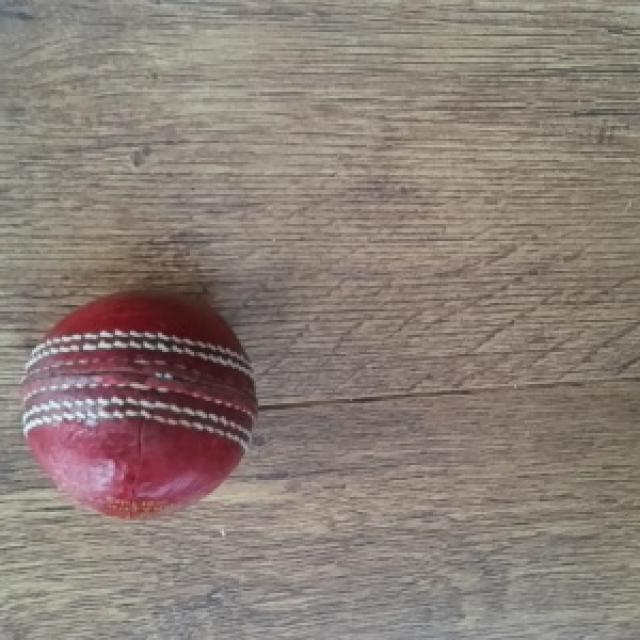ball: (17, 288, 260, 521)
